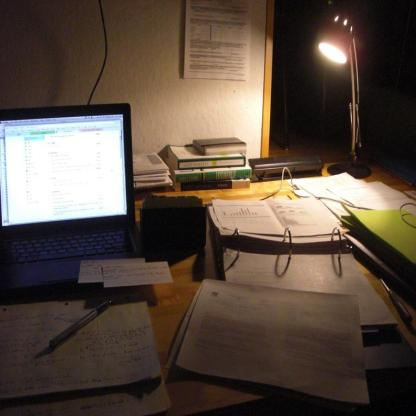board: (5, 106, 144, 307)
